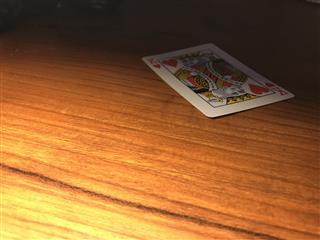KingOfHearts: (141, 42, 294, 118)
